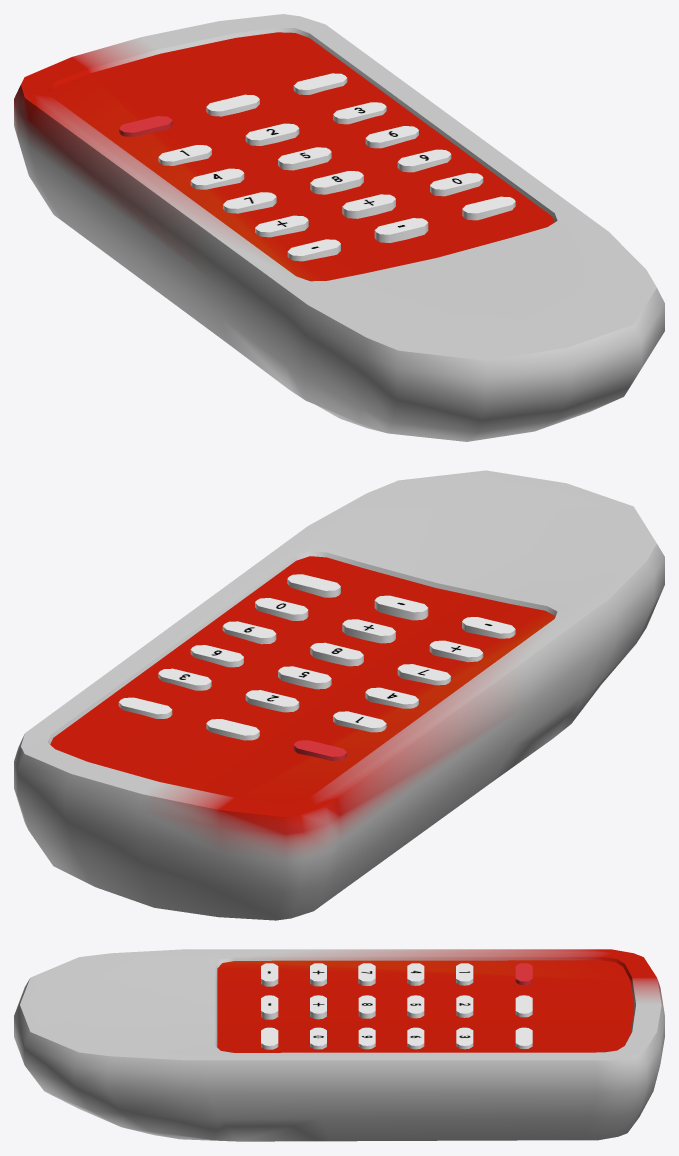
The model's file is video_projector_command.fbx.
3 renders of one model, top to bottom at view 1: azimuth 30°, elevation 25°; view 2: azimuth 150°, elevation 25°; view 3: azimuth 270°, elevation 25°, orthographic. The views are drawn at different scales.
Parts seen in each view (by area): view 1: Corpse, button_17, button_14, button_11, button_8, button_18, button_16, button_5, button_15, button_12, button_13, button_2 (+7 smaller); view 2: Corpse, button_17, button_14, button_11, button_8, button_18, button_5, button_16, button_15, button_12, button_13, button_10 (+7 smaller); view 3: Corpse, button_17, button_11, button_16, button_8, button_14, button_10, button_7, button_5, button_4, button_2, button_13 (+7 smaller).
Part boxes in pixels (x1,y1,x2,y2): Corpse: (14,14,664,441); button_17: (374,218,428,242); button_14: (342,194,395,218); button_11: (310,171,363,194); button_8: (278,147,331,170); button_18: (462,196,515,220); button_16: (287,239,340,261); button_5: (245,123,299,145); button_15: (430,173,483,196); button_12: (397,149,451,172); button_13: (255,215,308,237); button_2: (206,94,259,116); Corpse: (14,470,664,920); button_17: (374,595,428,620); button_14: (342,619,395,643); button_11: (310,642,363,666); button_8: (278,666,331,689); button_18: (287,574,340,597); button_5: (245,690,299,712); button_16: (462,617,515,638); button_15: (255,598,308,620); button_12: (222,621,276,644); button_13: (429,640,483,662); button_10: (397,664,450,685); Corpse: (14,949,664,1141); button_17: (261,995,278,1019); button_11: (358,995,375,1018); button_16: (261,963,278,986); button_8: (407,995,424,1018); button_14: (310,995,326,1019); button_10: (358,963,375,985); button_7: (407,963,424,985); button_5: (456,995,473,1017); button_4: (456,963,473,985); button_2: (515,995,532,1017); button_13: (310,963,326,986).
Bounding box in the file's own units: 5 × 2.04 × 12.01.
